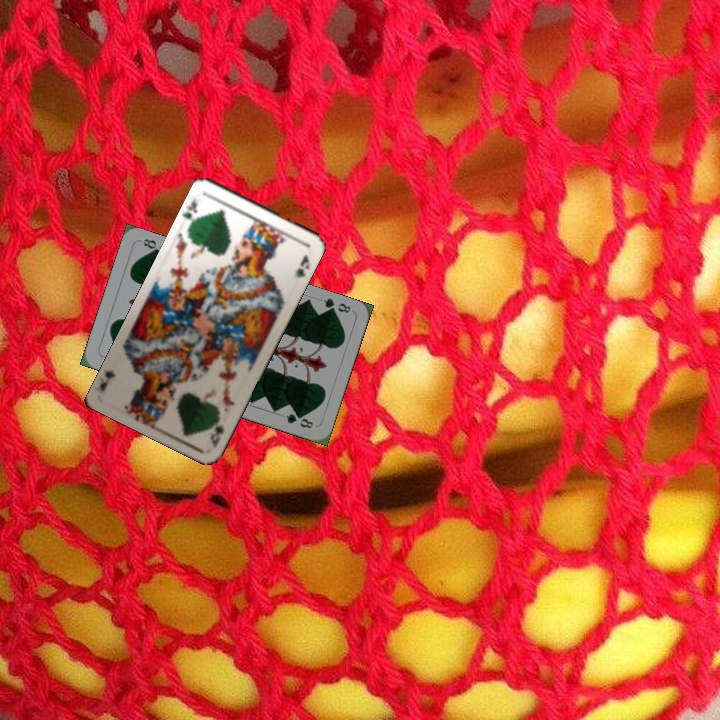G8: (319, 294, 353, 317)
GK: (206, 412, 227, 450), (179, 195, 201, 229)
